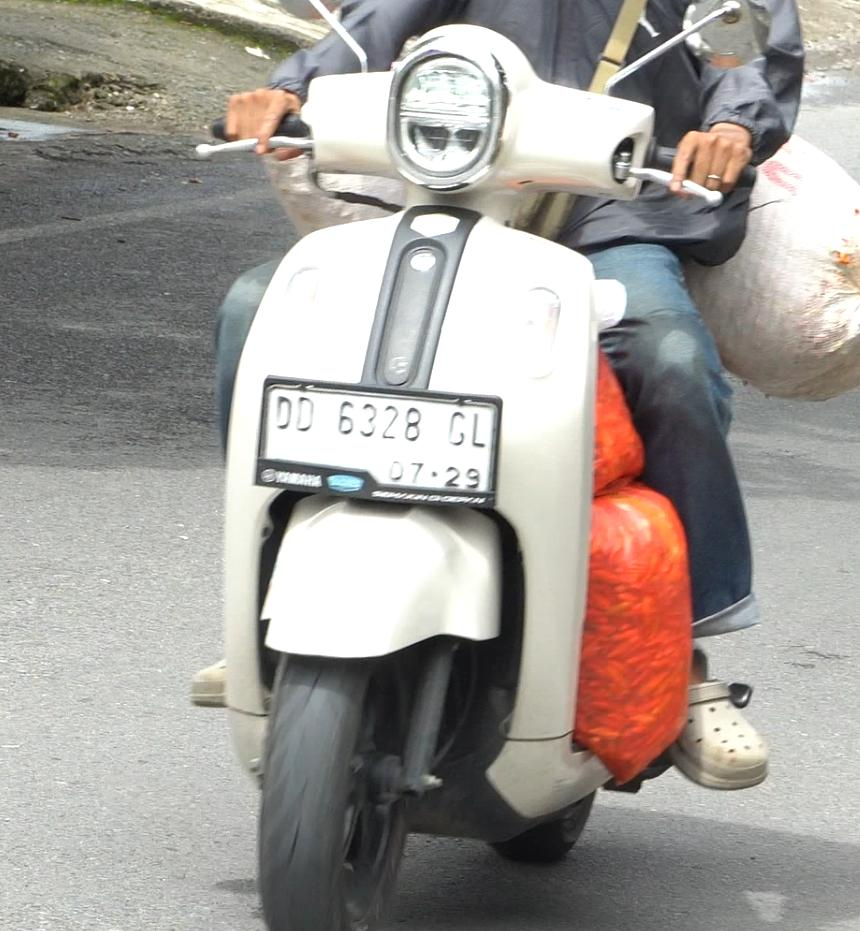number-plate: (254, 375, 512, 512)
